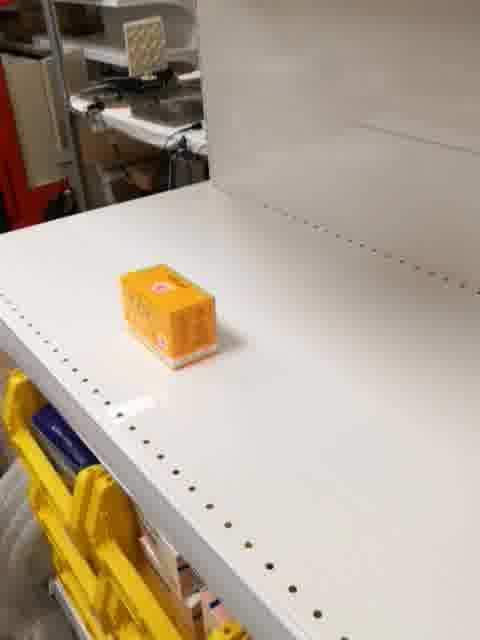jasminetea: (121, 264, 219, 372)
